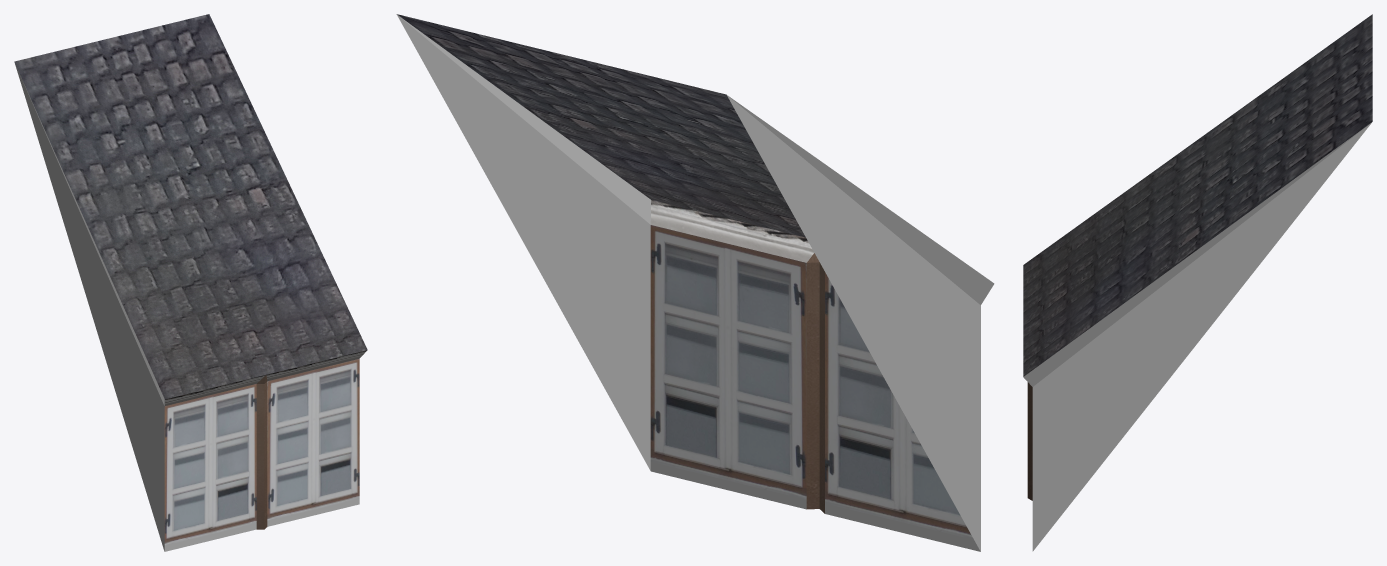
The model's file is RoofWindow1double.fbx.
3 renders of one model, left to right at view 1: azimuth 30°, elevation 25°; view 2: azimuth 150°, elevation 25°; view 3: azimuth 270°, elevation 25°, orthographic. The views are drawn at different scales.
Parts seen in each view (by area): view 1: RoofWindow1double; view 2: RoofWindow1double; view 3: RoofWindow1double.
Part boxes in pixels (left/top/right/bottom): RoofWindow1double: left=14, top=14, right=367, bottom=551; RoofWindow1double: left=396, top=14, right=994, bottom=551; RoofWindow1double: left=1023, top=14, right=1372, bottom=551.
Bounding box in the file's own units: 195 × 350 × 258.
